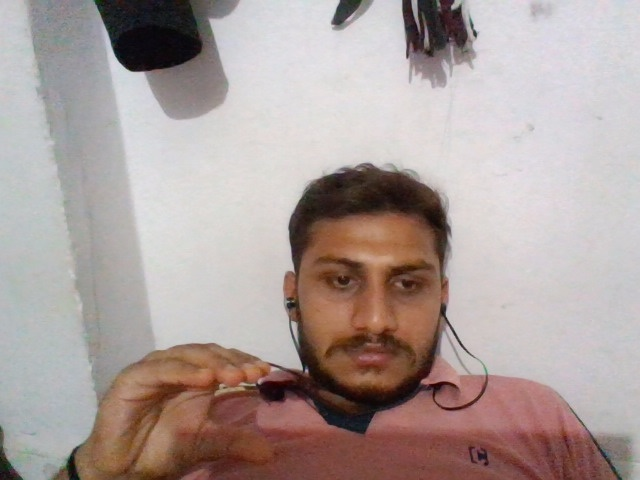No: (85, 336, 280, 476)
